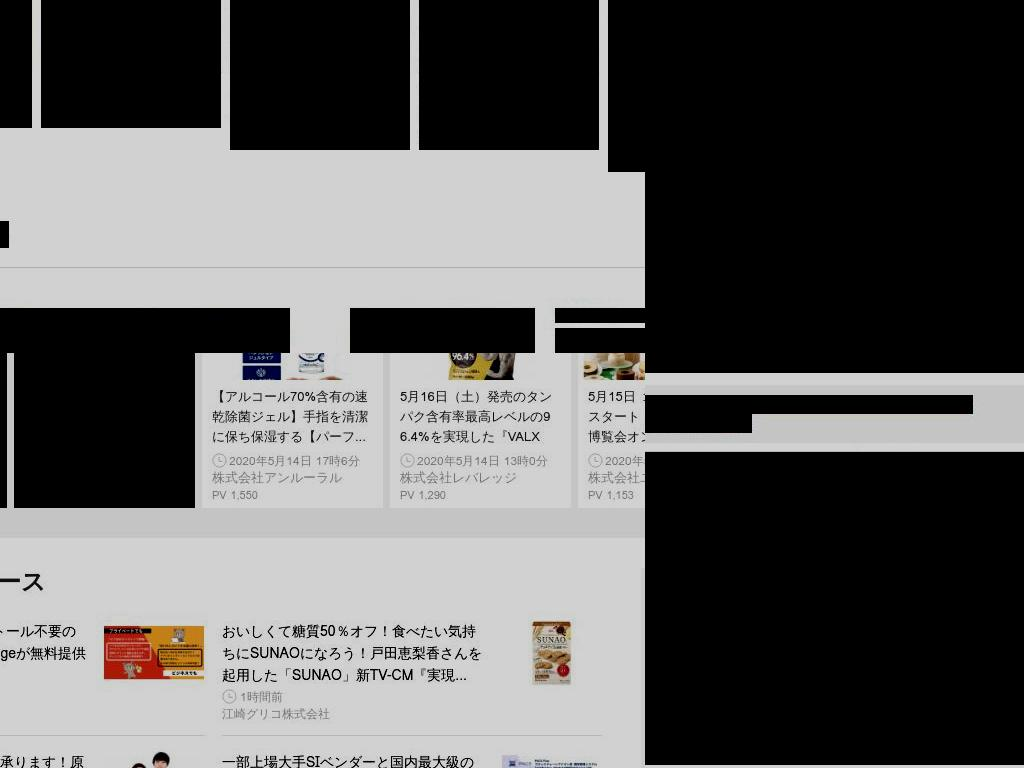button: (645, 452, 1024, 765), (222, 620, 602, 722), (14, 353, 195, 508), (202, 353, 383, 508), (390, 353, 571, 508), (230, 0, 410, 150), (419, 0, 599, 150), (41, 0, 221, 128), (0, 620, 204, 722), (578, 353, 645, 508), (350, 308, 535, 353), (222, 751, 602, 768), (222, 705, 330, 723)
heading: (222, 620, 487, 686), (0, 568, 602, 595), (0, 620, 89, 686), (222, 751, 487, 768)
image: (645, 0, 1024, 353), (41, 0, 221, 74), (230, 0, 410, 74), (419, 0, 599, 74), (350, 308, 535, 353), (14, 353, 195, 395), (202, 353, 383, 395), (390, 353, 571, 395), (104, 620, 204, 687), (502, 620, 602, 687), (104, 751, 204, 768), (502, 751, 602, 768)
link: (24, 387, 185, 452), (212, 387, 373, 452), (400, 387, 561, 452), (645, 395, 973, 414), (222, 689, 487, 704), (588, 387, 645, 452), (212, 467, 342, 488), (400, 467, 517, 488), (24, 454, 185, 469), (212, 454, 373, 469), (400, 454, 561, 469), (24, 471, 185, 485), (212, 471, 373, 485), (400, 471, 561, 485), (645, 414, 752, 433), (24, 489, 185, 501), (24, 467, 116, 488), (212, 489, 373, 501), (400, 489, 561, 501), (0, 689, 89, 704), (588, 467, 645, 488), (588, 454, 645, 469), (588, 471, 645, 485), (588, 489, 645, 501)
text: (230, 83, 410, 150), (419, 83, 599, 150), (41, 83, 221, 128), (645, 353, 1024, 373), (222, 704, 487, 722), (608, 83, 645, 172), (24, 453, 185, 468), (212, 453, 373, 468), (400, 453, 561, 468), (24, 489, 185, 501), (212, 489, 373, 501), (400, 489, 561, 501), (0, 704, 89, 722), (555, 308, 645, 323), (588, 453, 645, 468), (588, 489, 645, 501)
